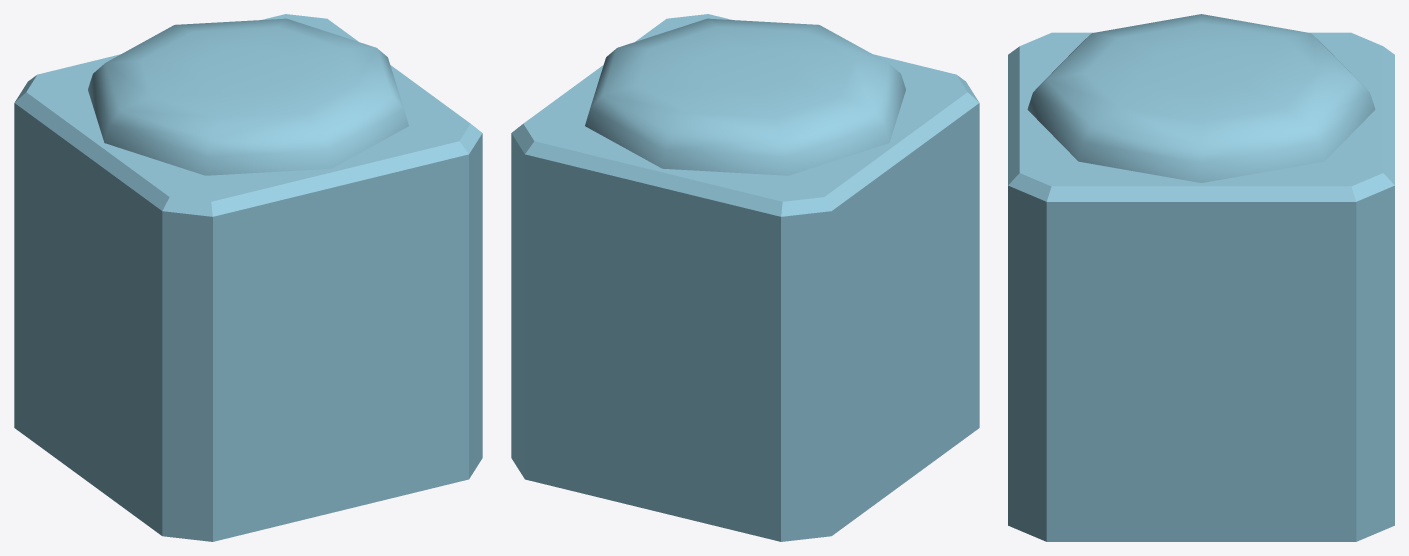
The model's file is commSpeaker.FBX.
3 views of the same model, side by side, from view 1: azimuth 30°, elevation 25°; view 2: azimuth 150°, elevation 25°; view 3: azimuth 270°, elevation 25° (orthographic). The views are drawn at different scales.
Visible parts, largest first — view 1: commSpeaker; view 2: commSpeaker; view 3: commSpeaker.
Part boxes in pixels (<box>): commSpeaker: <box>14,14,482,541</box>; commSpeaker: <box>511,14,979,541</box>; commSpeaker: <box>1008,14,1394,541</box>.
Bounding box in the file's own units: 0.1 × 0.1112 × 0.1.
